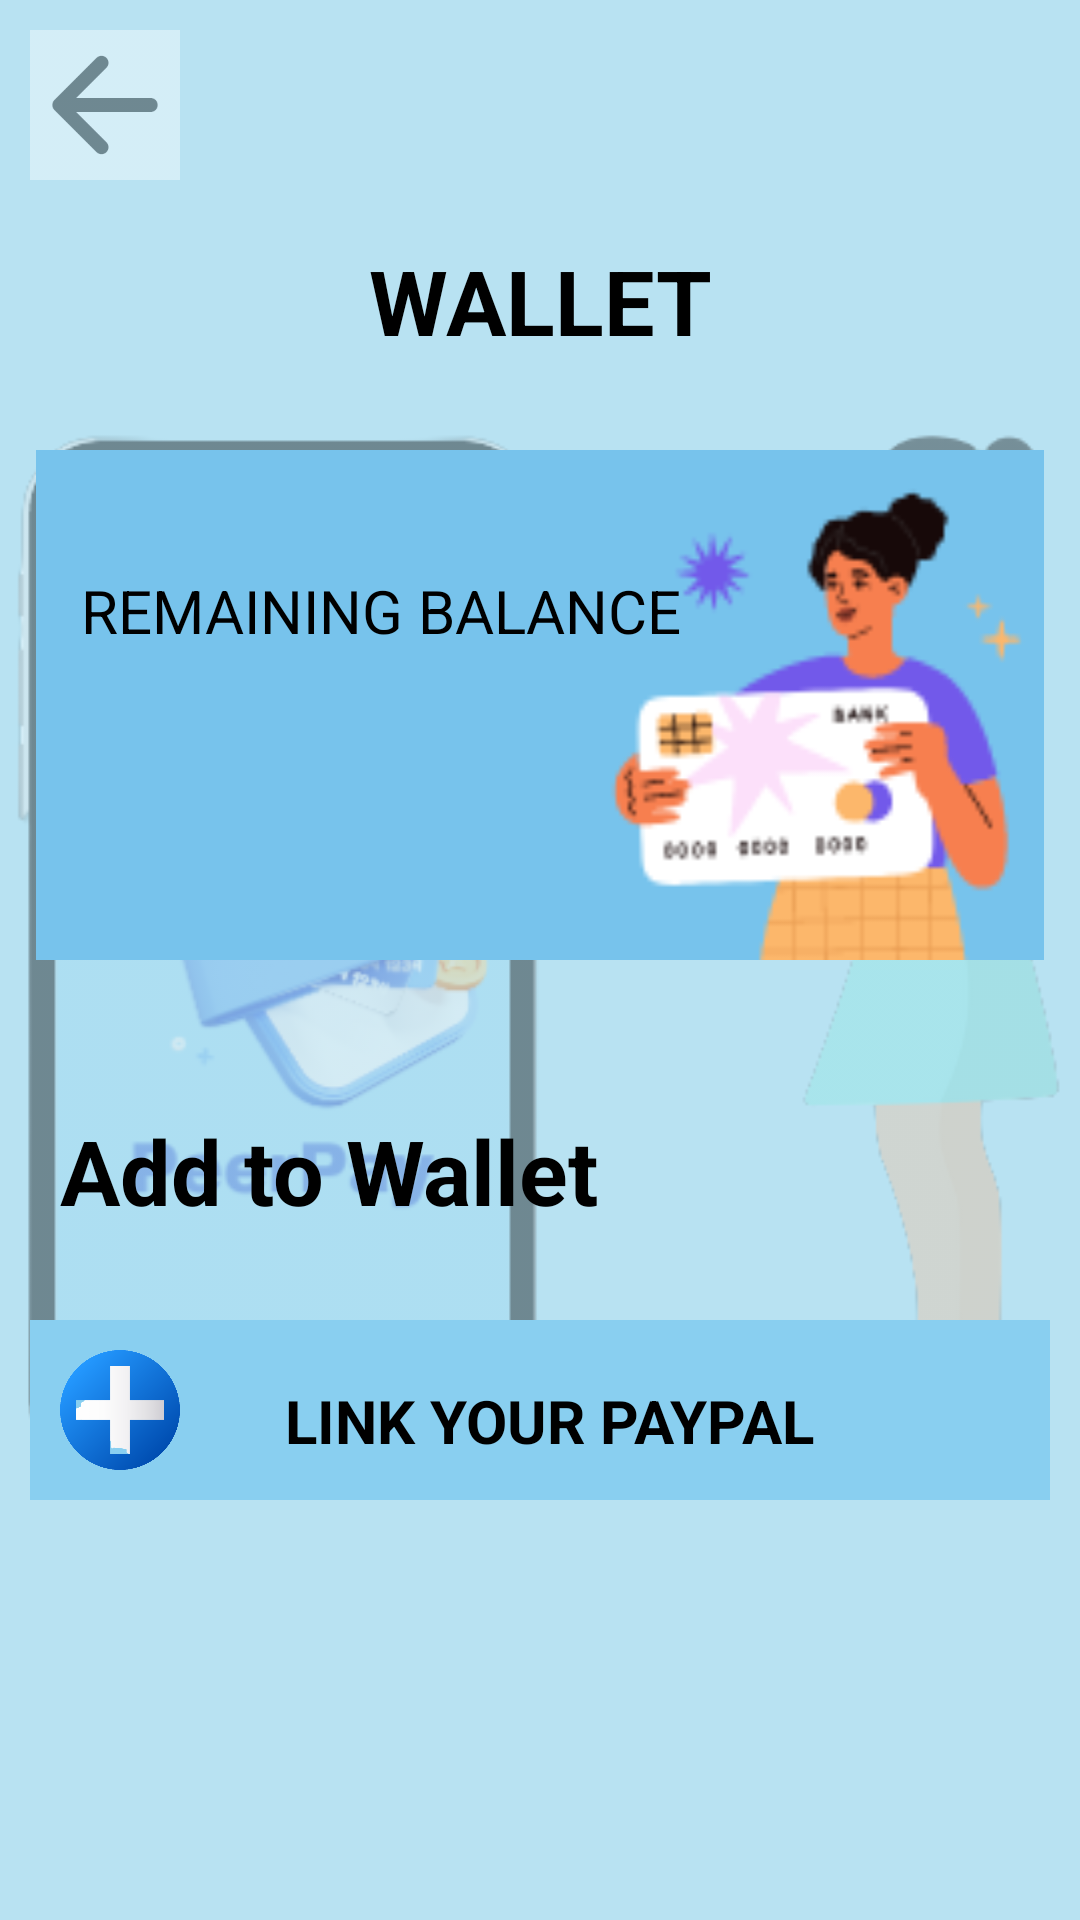

Screen size 1080w x 1920h. Icon name, then its center in pixels as (x,y):
Back Button: (105,105)
plus: (120,1410)
